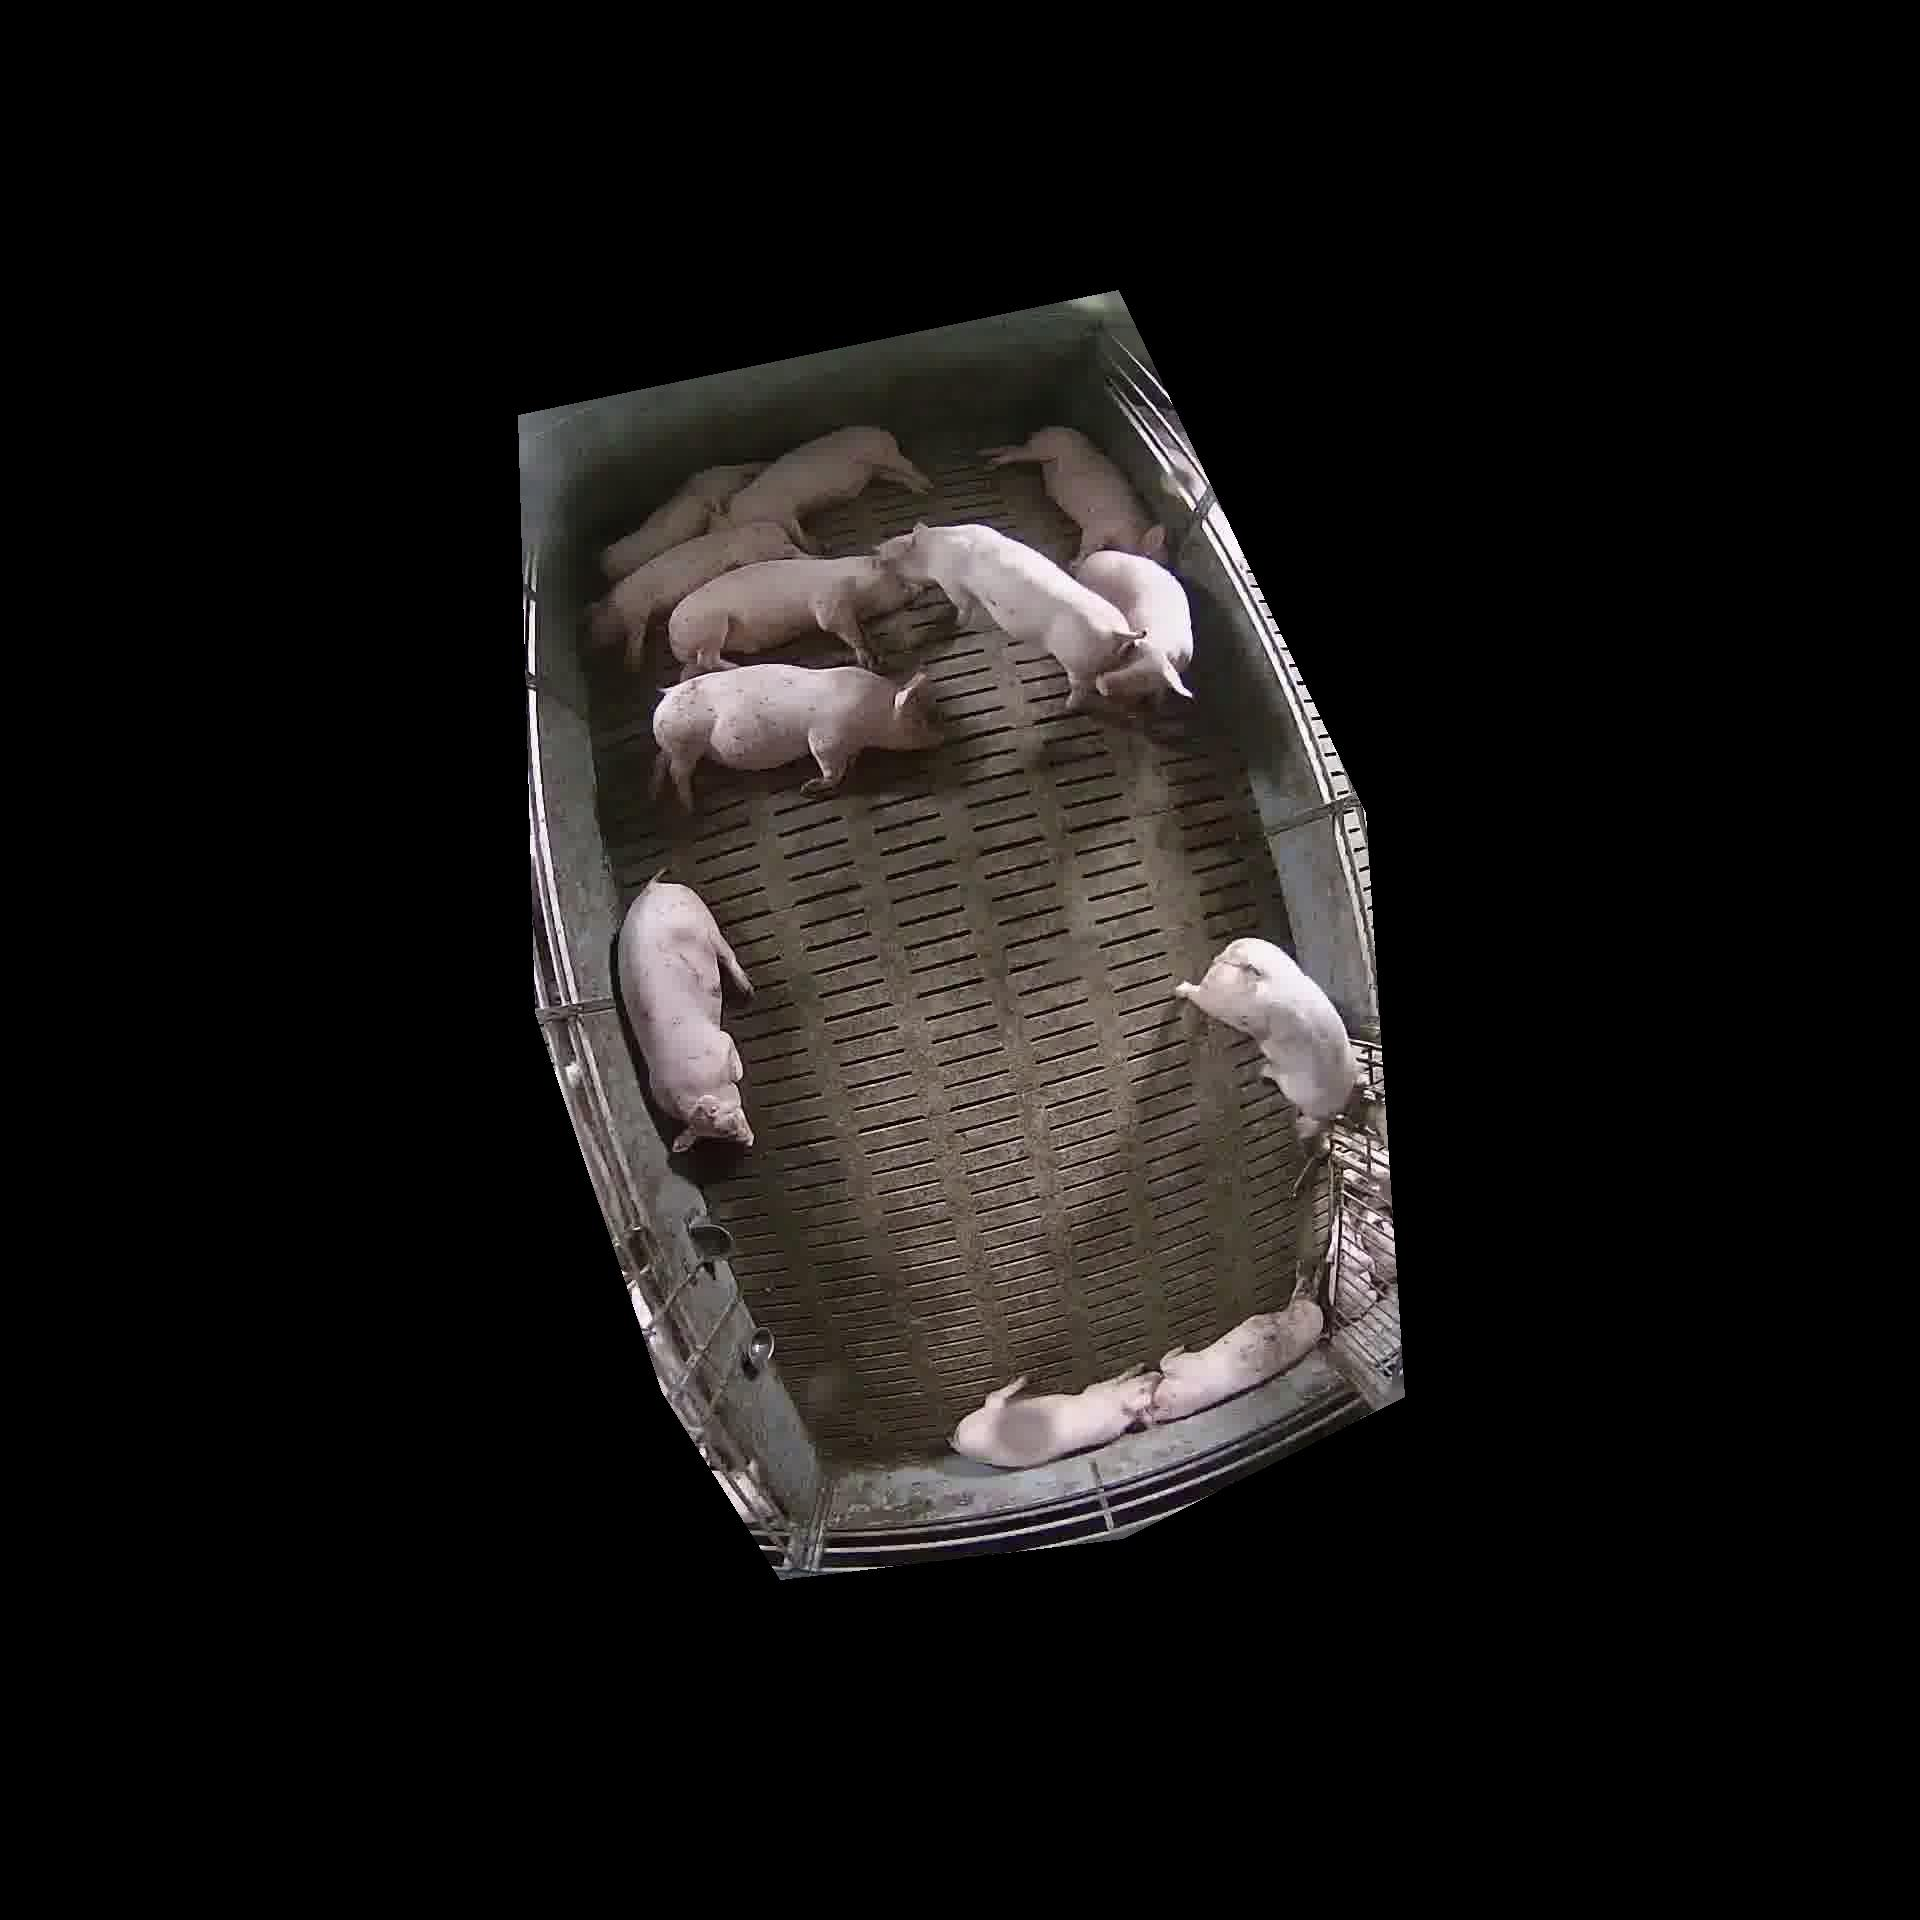pig: (876, 522, 1138, 707), (652, 665, 941, 809), (617, 879, 753, 1152), (1176, 937, 1356, 1138), (587, 522, 804, 668), (668, 556, 920, 677), (726, 425, 930, 547), (983, 427, 1166, 559), (951, 1364, 1159, 1466), (1148, 1298, 1320, 1417), (596, 464, 760, 582), (1073, 550, 1192, 703)
